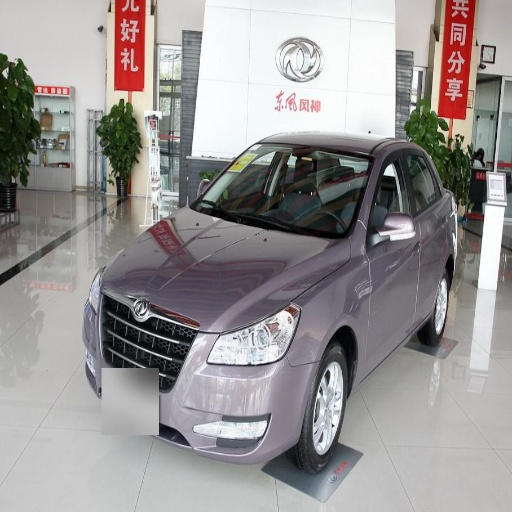front_bumper: (97, 297, 316, 464)
front_glass: (191, 144, 371, 238)
front_left_door: (365, 147, 418, 367)
